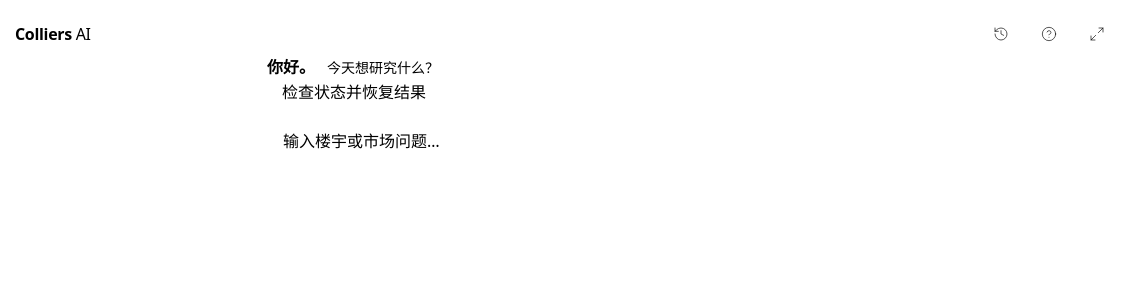
Test: homepage terminal query scope limits › does not invent a scope reason when recovery can confirm only a terminal failed request
Step 1. Type "保留待发送的问题" into the text box → (545, 141), box left=283, top=127, right=807, bottom=155
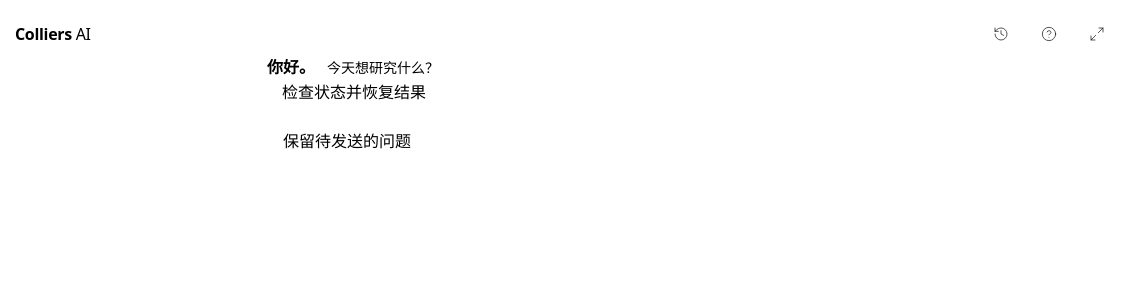
Step 2. Click the button "检查状态并恢复结果" → (354, 92), box left=267, top=79, right=441, bottom=105
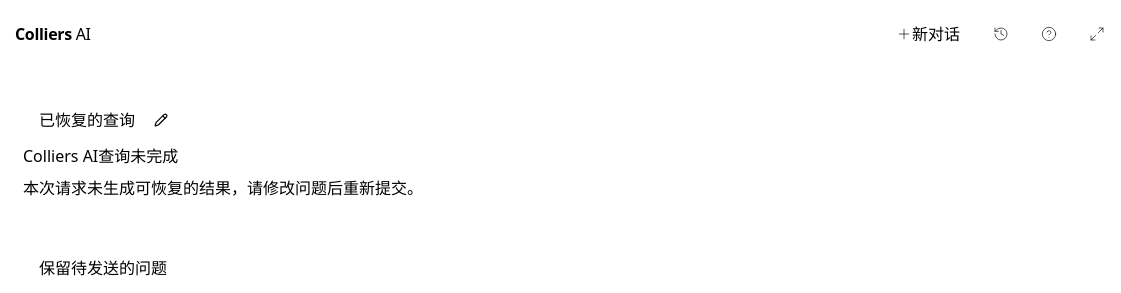
Expected: the message does not show "容量", left=23, top=177, right=423, bottom=199
Expected: the text "本次请求未生成可恢复的结果，请修改问题后重新提交。" is shown, left=23, top=177, right=423, bottom=199
Expected: the button "检查状态并恢复结果" is gone
